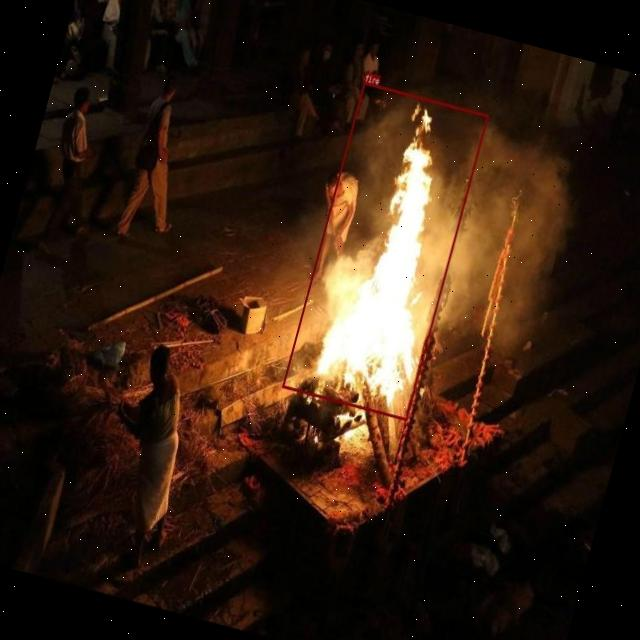fire: (282, 81, 488, 420)
